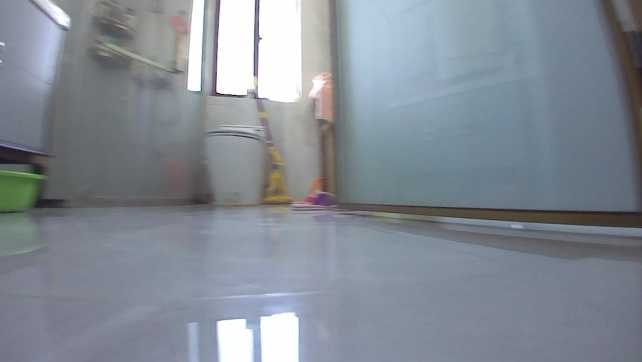toilet: (198, 118, 270, 206)
